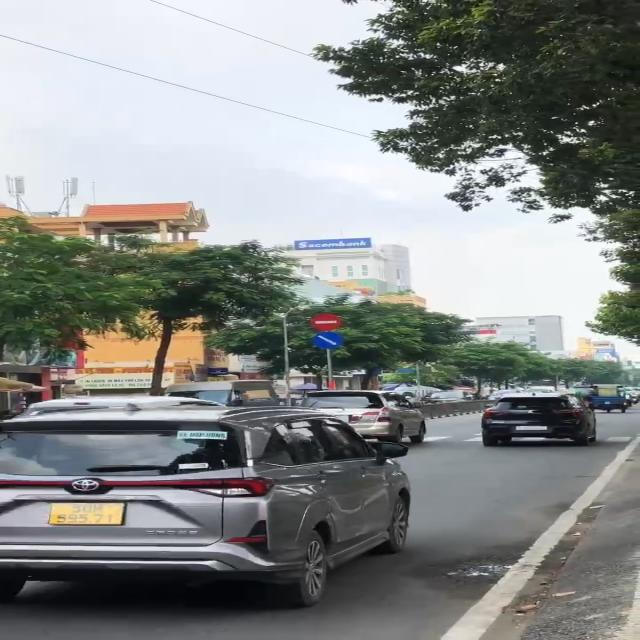Bien bao cam di nguoc chieu: (306, 313, 345, 332)
Bien bao huong phai di vong chuong ngai vat: (311, 331, 348, 350)
